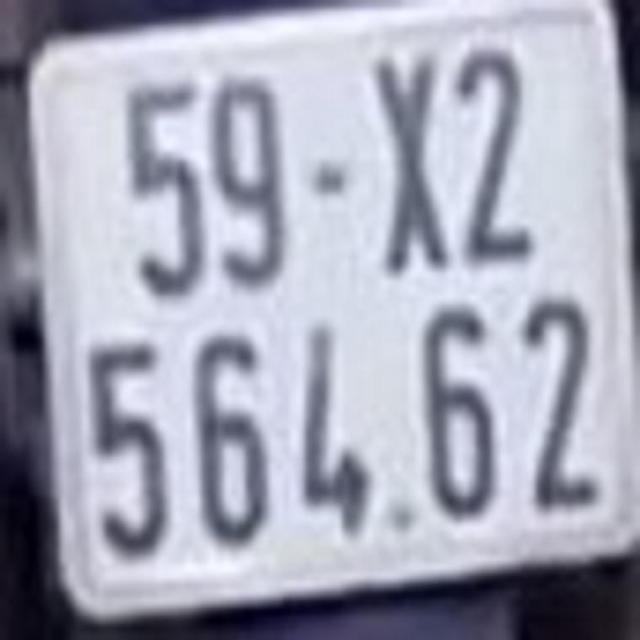2: (512, 292, 606, 518), (458, 42, 537, 266)
4: (291, 314, 374, 543)
5: (122, 75, 207, 298), (87, 336, 172, 559)
6: (417, 296, 501, 524), (190, 330, 270, 546)
9: (212, 75, 290, 296)
X: (366, 45, 453, 278)
